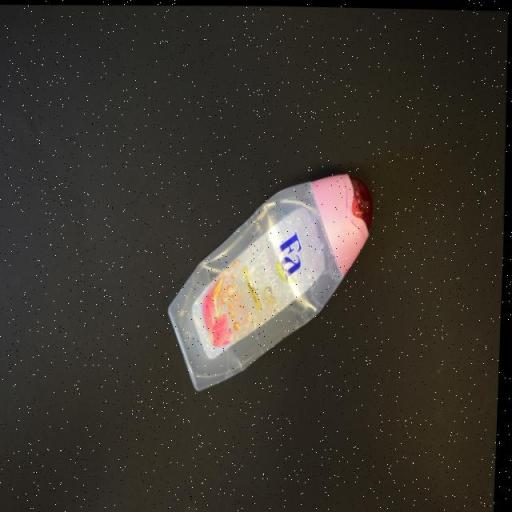plastic: (166, 162, 380, 393)
